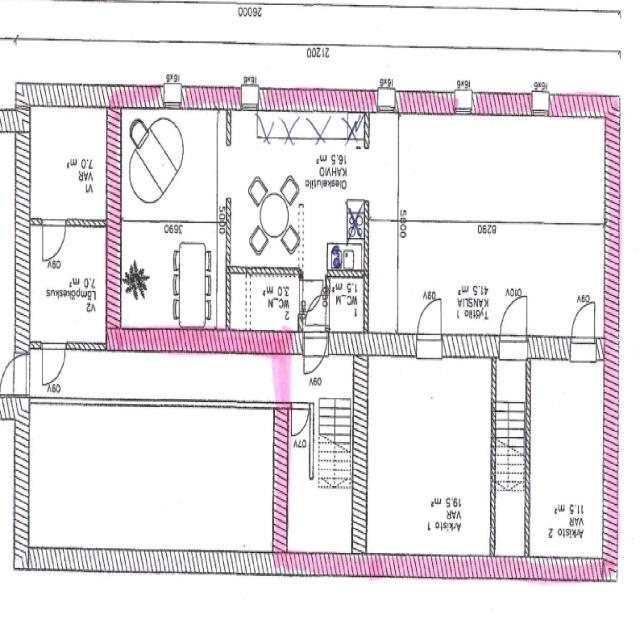door: (29, 222, 110, 343), (494, 290, 532, 362), (412, 293, 447, 362), (36, 217, 68, 266), (38, 340, 68, 390), (570, 299, 600, 348), (302, 324, 328, 379), (1, 355, 23, 398), (288, 402, 312, 441), (302, 291, 326, 328), (301, 278, 325, 310)
window: (1, 28, 20, 48)
zone: (360, 356, 496, 560), (399, 116, 608, 230), (526, 356, 612, 577), (218, 125, 328, 266), (26, 224, 110, 345), (26, 108, 113, 224), (118, 221, 189, 333), (122, 106, 192, 214), (283, 466, 360, 556), (224, 267, 302, 336), (174, 230, 223, 330), (492, 444, 528, 558), (327, 268, 365, 334)
